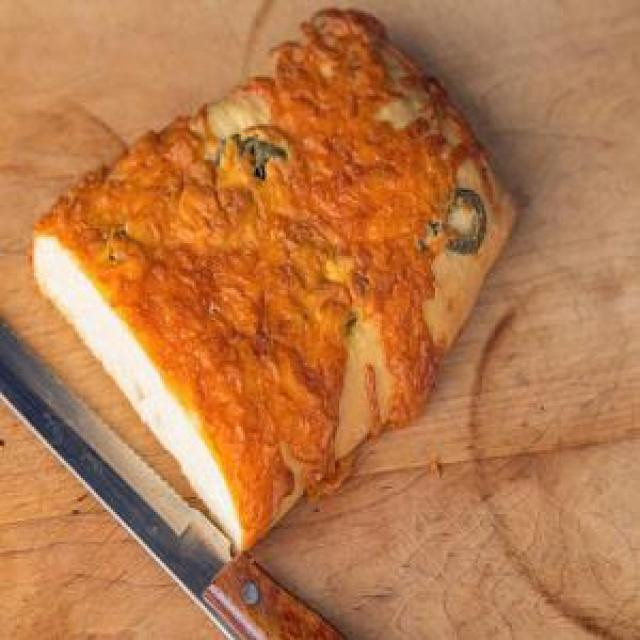knife: (0, 316, 352, 638)
